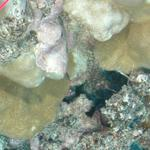alive: (3, 3, 143, 143)
